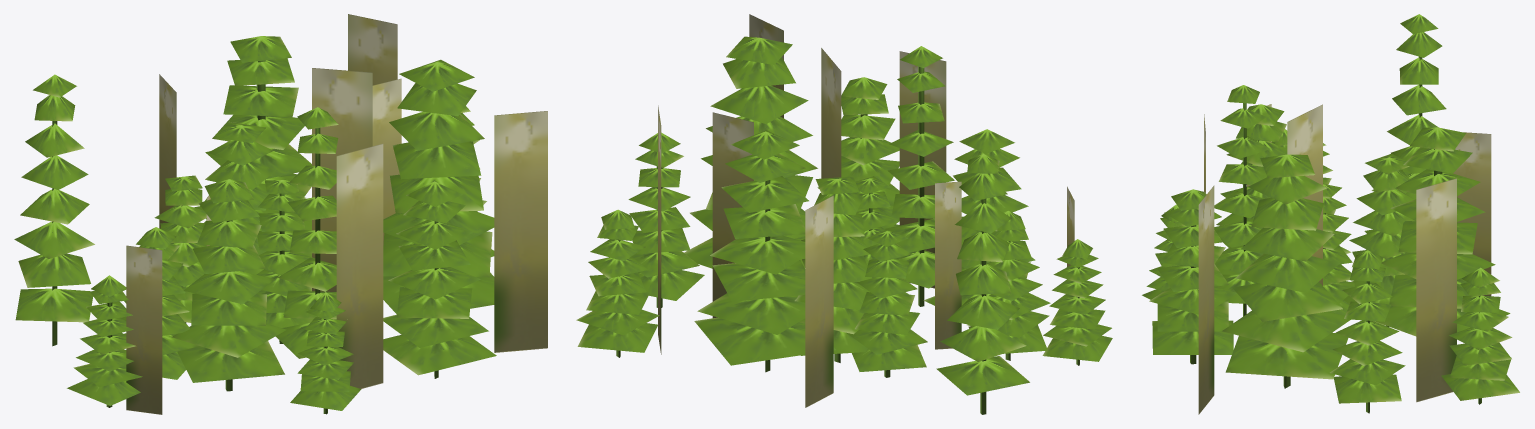
Rendered from sb_obj_nature003_fermPlant03.fbx.
The picture shows the model from 3 angles, left to right: view 1: azimuth 30°, elevation 25°; view 2: azimuth 150°, elevation 25°; view 3: azimuth 270°, elevation 25°; orthographic projection. The views are drawn at different scales.
Parts seen in each view (by area): view 1: sb_obj_nature003_fermPlant03; view 2: sb_obj_nature003_fermPlant03; view 3: sb_obj_nature003_fermPlant03.
Boxes of the visible parts, <box> form: sb_obj_nature003_fermPlant03: <box>14,14,547,414</box>; sb_obj_nature003_fermPlant03: <box>576,14,1112,414</box>; sb_obj_nature003_fermPlant03: <box>1142,14,1519,414</box>.
Bounding box in the file's own units: 1.11 × 0.632 × 0.8986.
